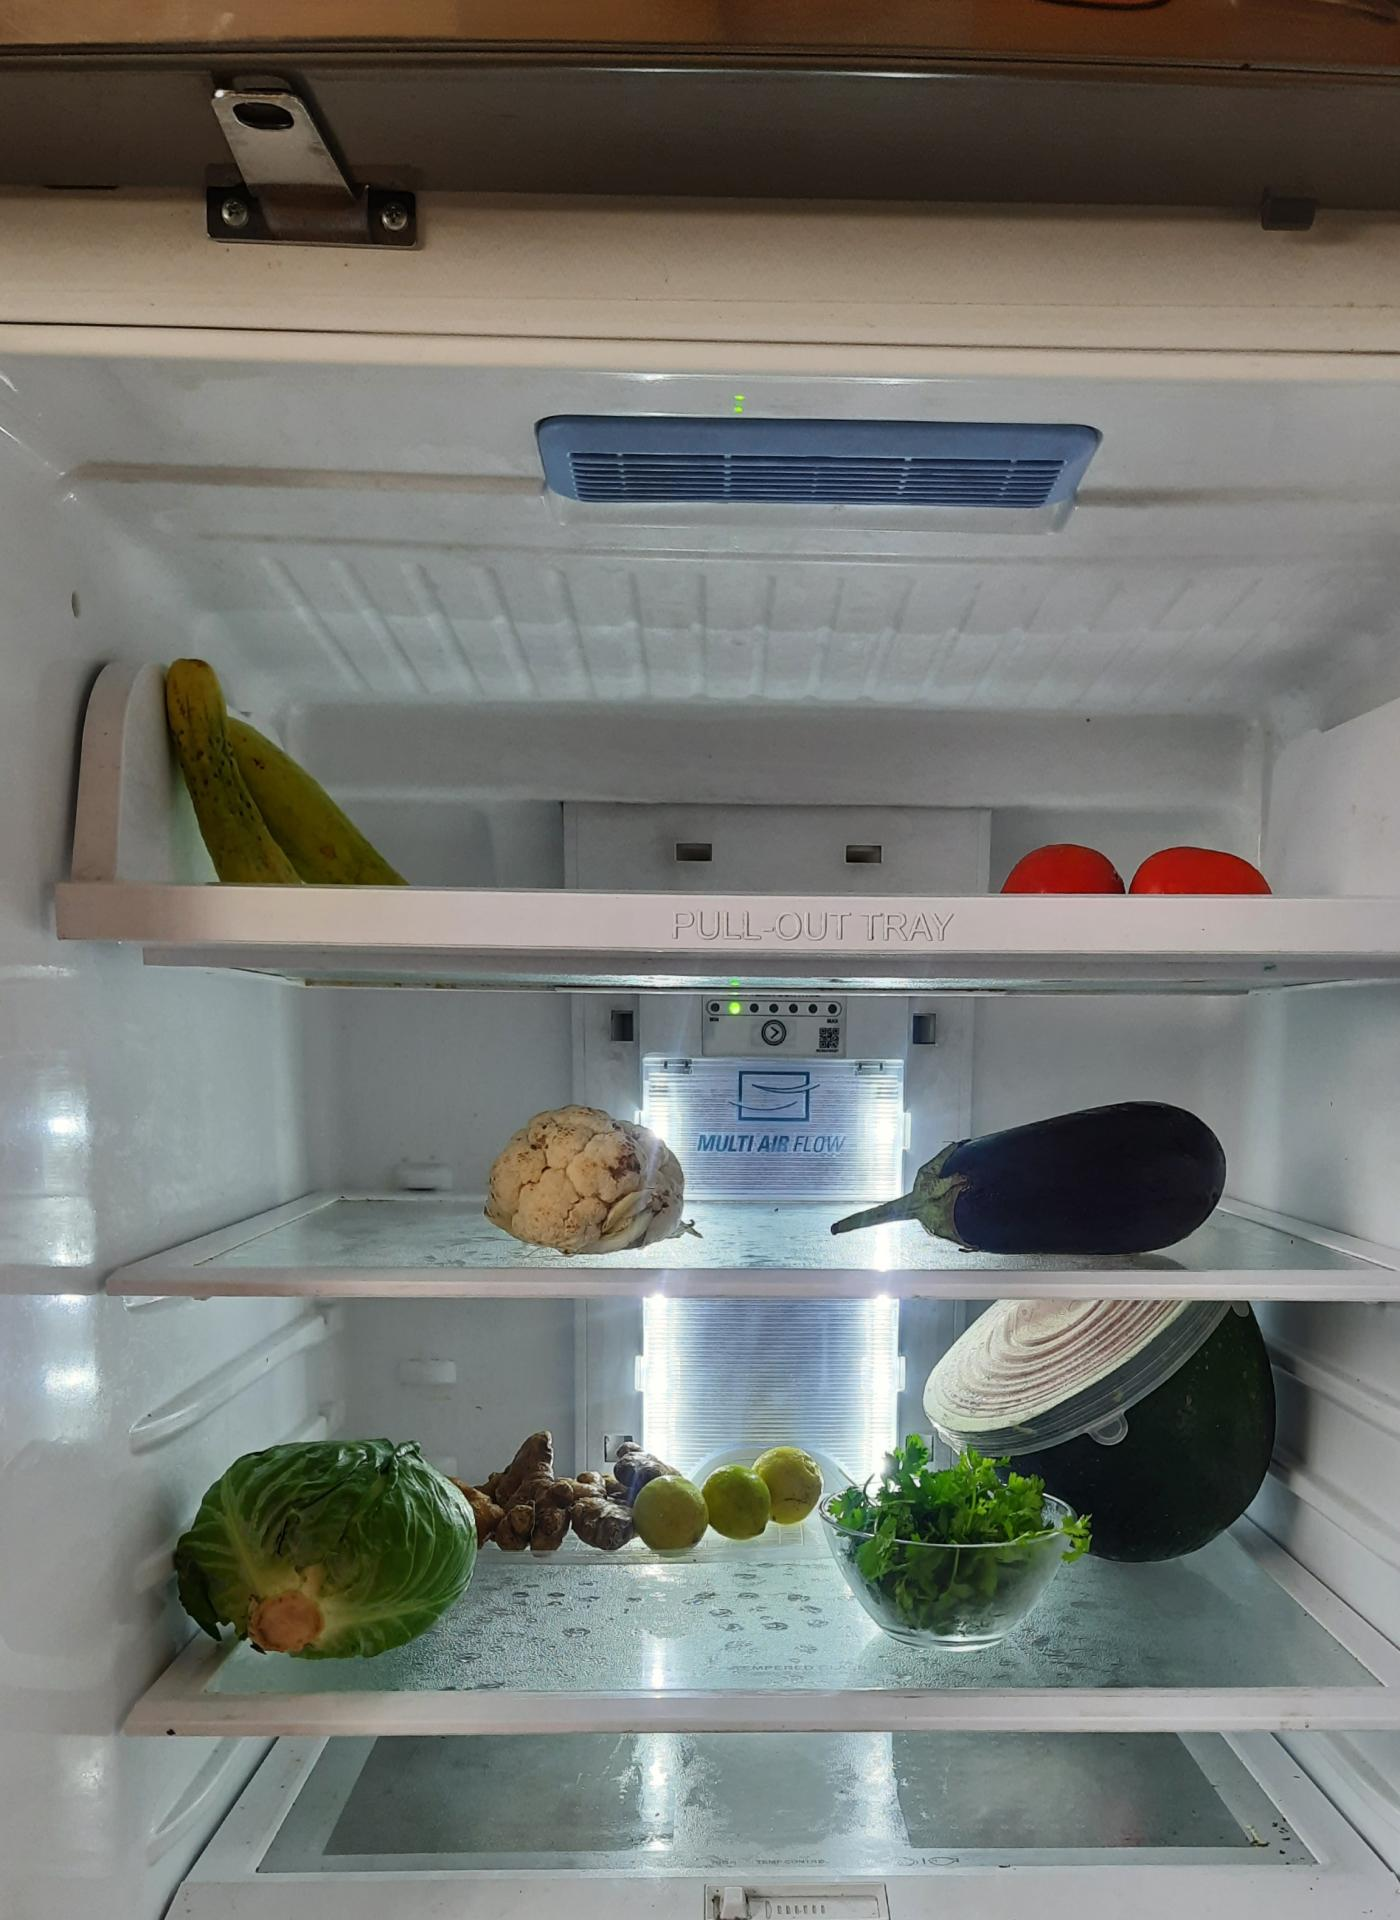brinjal: (892, 1100, 1233, 1255)
cabbage: (171, 1421, 473, 1647)
cauliflower: (480, 1100, 690, 1255)
coriander: (839, 1436, 1066, 1628)
cucumber: (158, 653, 419, 896)
ginger: (468, 1425, 643, 1561)
lemon: (634, 1439, 826, 1550)
tomato: (1127, 830, 1279, 902), (1002, 832, 1129, 896)
watermelon: (921, 1307, 1279, 1568)
